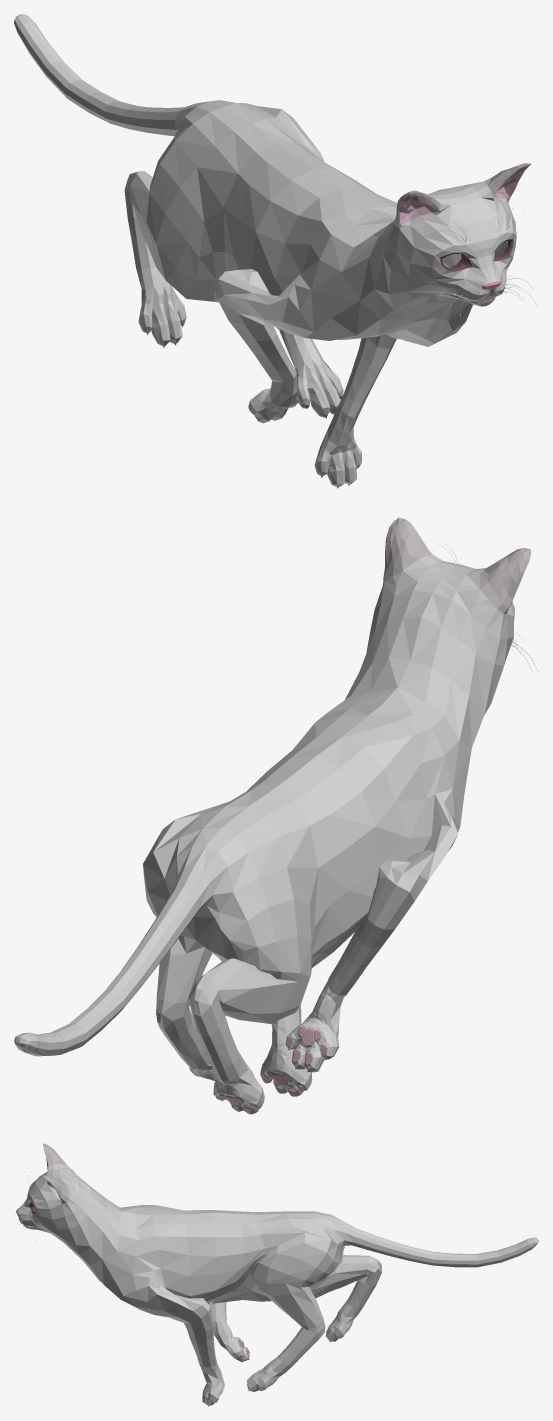
File: Run_F_07.glb
3 renders of one model, top to bottom at view 1: azimuth 30°, elevation 25°; view 2: azimuth 150°, elevation 25°; view 3: azimuth 270°, elevation 25°, orthographic. The views are drawn at different scales.
Visible parts, largest first — view 1: Run_F_07; view 2: Run_F_07; view 3: Run_F_07.
Part boxes in pixels (left/top/right/bottom): Run_F_07: left=14, top=14, right=536, bottom=488; Run_F_07: left=14, top=517, right=538, bottom=1114; Run_F_07: left=16, top=1143, right=538, bottom=1406.
Bounding box in the file's own units: 0.1802 × 0.3868 × 0.7665.
Materials: 1 (1 with a texture image).
